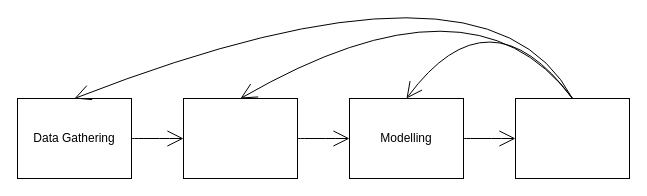
The diagram is 647 pixels wide and 196 high, and some of its shapes have lost their labels. Here are the shapes that lost their labels. From the top down, the box of each, then its label:
(182, 98, 298, 178): Data Processing
(514, 98, 630, 178): Evaluation
